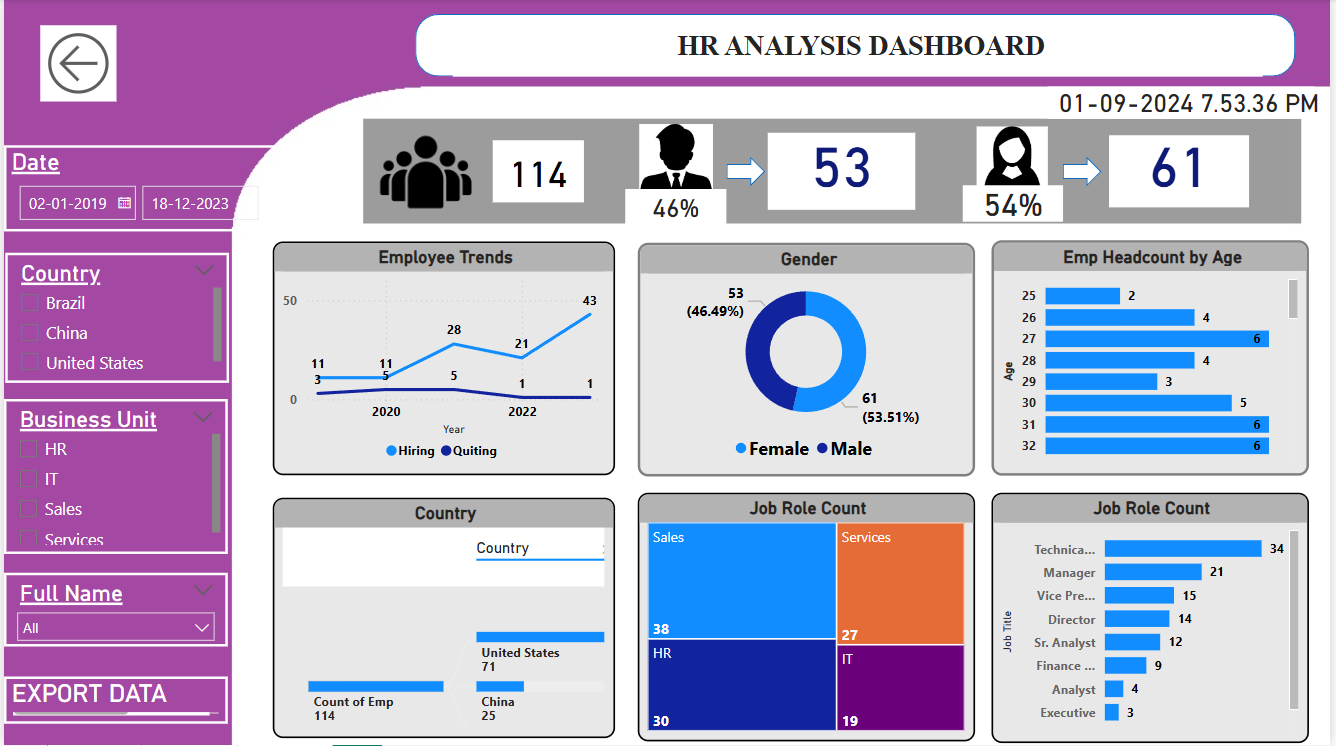

The dashboard page shown, as its layout file describes it:
{"tool":"powerbi","page":{"name":"Page 1","canvas":[1280,720],"ordinal":0},"visuals":[{"type":"card","fields":{"Values":["Employee Data (2).TotalGender"]},"box":[472,135.8,87.8,60.4],"z":0},{"type":"image","box":[355.4,115.3,102.9,102.9],"z":1000},{"type":"lineChart","title":"Employee Trends","fields":{"Category":["Employee Data (2).Hire Date.Variation.Date Hierarchy.Year"],"Y":["Employee Data (2).Full Name","Employee Data (2).End Date"]},"box":[259.4,234,330.6,225.6],"z":2000},{"type":"donutChart","title":"Gender","fields":{"Y":["Employee Data (2).Full Name"],"Category":["Employee Data (2).Gender"]},"box":[611.7,235.3,325.7,225.6],"z":3000},{"type":"clusteredBarChart","title":"Emp  Headcount by Age","fields":{"Category":["Employee Data (2).Age"],"Y":["Employee Data (2).Full Name"]},"box":[953.1,232.8,306.4,226.8],"z":4000},{"type":"decompositionTreeVisual","title":"Country","fields":{"Analyze":["Employee Data (2).Country"],"ExplainBy":["Employee Data (2).Country"]},"box":[259.4,481.4,330.6,231.6],"z":5000},{"type":"treemap","title":"Job Role Count","fields":{"Group":["Employee Data (2).Business Unit"],"Values":["Employee Data (2).Full Name"]},"box":[611.7,476.5,325.7,240.1],"z":6000},{"type":"clusteredBarChart","title":"Job Role Count","fields":{"Y":["Employee Data (2).Full Name"],"Category":["Employee Data (2).Job Title"]},"box":[953.1,476.5,306.4,241.3],"z":7000},{"type":"card","fields":{"Values":["Employee Data (2).Malecount"]},"box":[737.1,129.1,142.4,74.8],"z":8000},{"type":"card","fields":{"Values":["Employee Data (2).Femalecount"]},"box":[1066.5,131.5,135.1,70],"z":9000},{"type":"image","box":[879.5,118.2,187,78.4],"z":10000},{"type":"image","box":[575.5,115.8,147.2,80.8],"z":11000},{"type":"card","fields":{"Values":["Employee Data (2).Male%"]},"box":[599.6,183.4,97.7,35],"z":12000},{"type":"card","fields":{"Values":["Employee Data (2).Female%"]},"box":[925.3,179.8,96.5,35],"z":13000},{"type":"shape","box":[697.3,152,37.4,29],"z":14000},{"type":"shape","box":[1021.9,152,37.4,29],"z":15000},{"type":"shape","box":[396.9,14.5,849.3,60.3],"z":16000},{"type":"slicer","fields":{"Values":["Employee Data (2).Business Unit"]},"box":[0,386.1,216,149.6],"z":17000},{"type":"slicer","fields":{"Values":["Employee Data (2).Country"]},"box":[1.2,244.9,216,125.5],"z":18000},{"type":"slicer","title":"Date","fields":{"Values":["Employee Data (2).Hire Date"]},"box":[0,141.2,284.7,83.2],"z":19000},{"type":"card","fields":{"Values":["Query1.Last Refresh"]},"box":[1007.4,84.5,272.7,31.4],"z":20000},{"type":"actionButton","box":[35,25.3,73.6,73.6],"z":21000},{"type":"slicer","fields":{"Values":["Employee Data (2).Full Name"]},"box":[0,553.8,216,71.2],"z":22000},{"type":"tableEx","title":"EXPORT DATA","fields":{"Values":["Employee Data (2).Full Name","Employee Data (2).Gender","Employee Data (2).City"]},"box":[0,653.9,216,45.8],"z":23000},{"type":"textbox","box":[433.1,25.3,781.8,49.5],"z":23001}]}

Visuals, with their boxes in screenshot pixels (x1, y1, x2, y2), scaled from the page's 1280x720 canvas onto the 1336x746 screenshot:
card - Employee Data (2).TotalGender: 493/141/584/203
image: 371/119/478/226
"Employee Trends" lineChart: 271/242/616/476
"Gender" donutChart: 638/244/978/478
"Emp  Headcount by Age" clusteredBarChart: 995/241/1315/476
"Country" decompositionTreeVisual: 271/499/616/739
"Job Role Count" treemap: 638/494/978/742
"Job Role Count" clusteredBarChart: 995/494/1315/744
card - Employee Data (2).Malecount: 769/134/918/211
card - Employee Data (2).Femalecount: 1113/136/1254/209
image: 918/122/1113/204
image: 601/120/754/204
card - Employee Data (2).Male%: 626/190/728/226
card - Employee Data (2).Female%: 966/186/1067/223
shape: 728/157/767/188
shape: 1067/157/1106/188
shape: 414/15/1301/78
slicer - Employee Data (2).Business Unit: 0/400/225/555
slicer - Employee Data (2).Country: 1/254/227/384
"Date" slicer: 0/146/297/233
card - Query1.Last Refresh: 1051/88/1335/120
actionButton: 37/26/113/102
slicer - Employee Data (2).Full Name: 0/574/225/648
"EXPORT DATA" tableEx: 0/678/225/725
textbox: 452/26/1268/78
